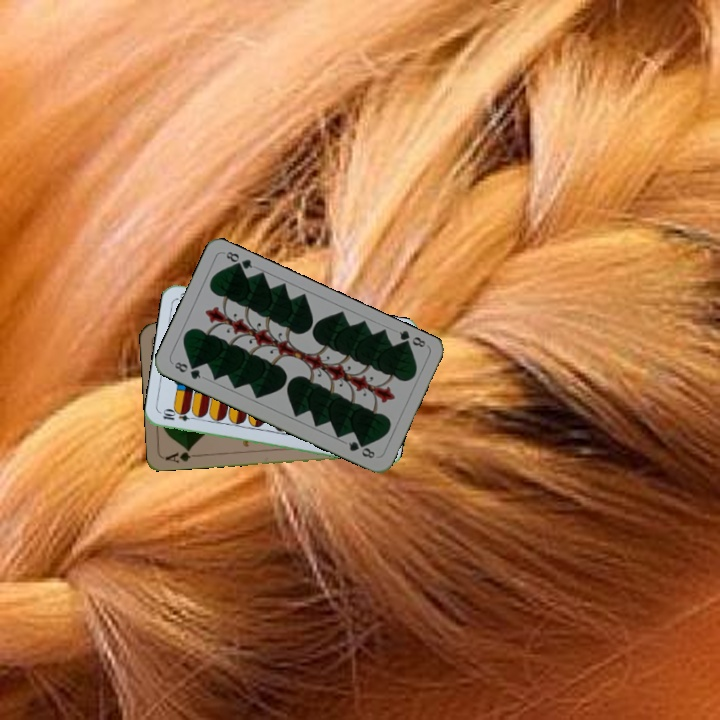E10: (159, 407, 199, 424)
G8: (395, 326, 428, 351), (170, 358, 204, 382)
GA: (161, 445, 202, 465)
